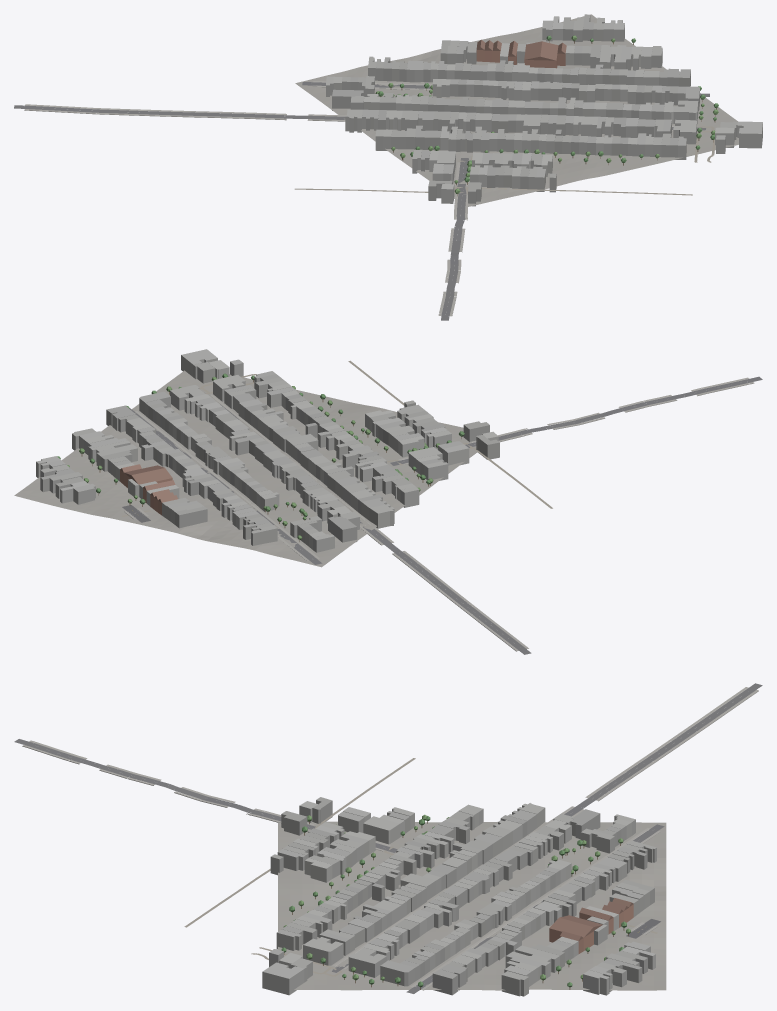
Rendered from tile_-7_-7.glb.
3 renders of one model, top to bottom at view 1: azimuth 30°, elevation 25°; view 2: azimuth 150°, elevation 25°; view 3: azimuth 270°, elevation 25°, orthographic. The views are drawn at different scales.
Visible parts, largest first — view 1: buildings, terrain, roads, sidewalks, props, paths; view 2: buildings, terrain, roads, sidewalks, props, paths; view 3: buildings, terrain, roads, sidewalks, props, paths.
Boxes of the visible parts, x1,y1,x2,y2 form: buildings: (326,14,762,206); terrain: (295,14,738,206); roads: (14,82,709,320); sidewalks: (24,42,673,316); props: (375,35,718,195); paths: (294,40,715,195); buildings: (36,349,499,552); terrain: (14,370,477,567); roads: (122,376,762,654); sidewalks: (124,377,754,651); props: (57,373,464,541); paths: (122,360,552,516); buildings: (262,797,656,996); terrain: (278,821,666,990); roads: (14,683,762,993); sidewalks: (22,687,758,990); props: (281,814,630,989); paths: (184,758,657,976).
Bounding box in the file's own units: 471 × 16.25 × 494.
